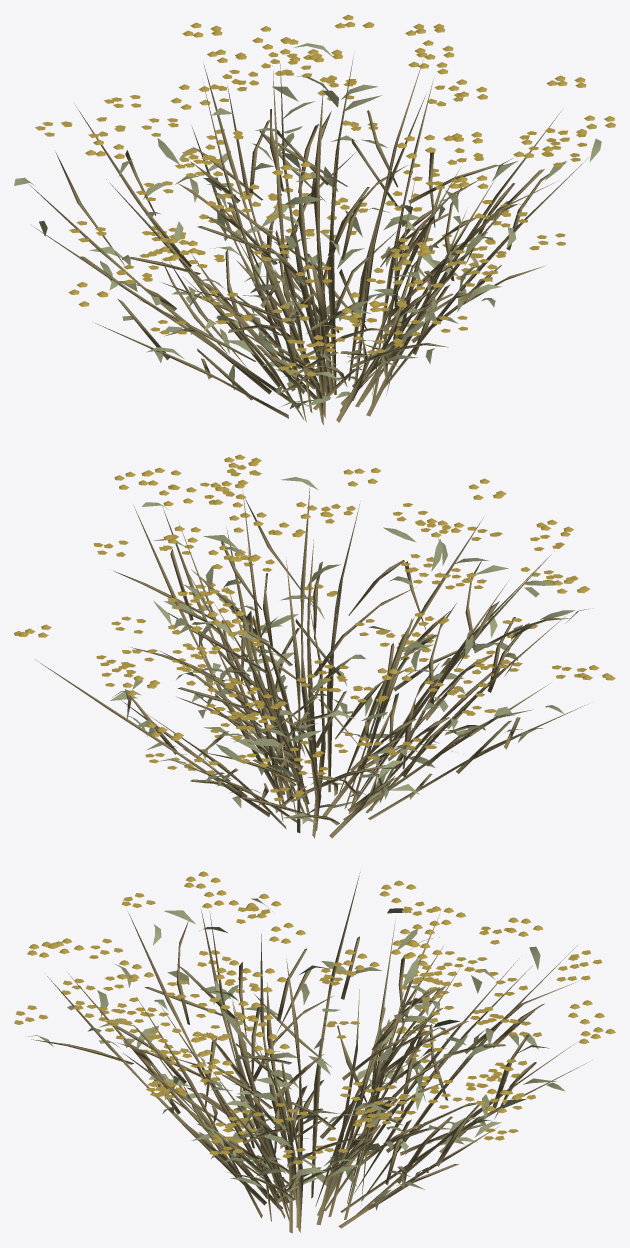
Rendered from Immortelle_Dense_LOD2.fbx.
3 views of the same model, one above another, from view 1: azimuth 30°, elevation 25°; view 2: azimuth 150°, elevation 25°; view 3: azimuth 270°, elevation 25° (orthographic). The views are drawn at different scales.
Parts seen in each view (by area): view 1: Immortelle_Dense_LOD2; view 2: Immortelle_Dense_LOD2; view 3: Immortelle_Dense_LOD2.
Part boxes in pixels (x1,y1,x2,y2): Immortelle_Dense_LOD2: (14, 14, 615, 424); Immortelle_Dense_LOD2: (14, 454, 615, 838); Immortelle_Dense_LOD2: (14, 871, 615, 1233).
Bounding box in the file's own units: 67.57 × 41.82 × 69.81.
